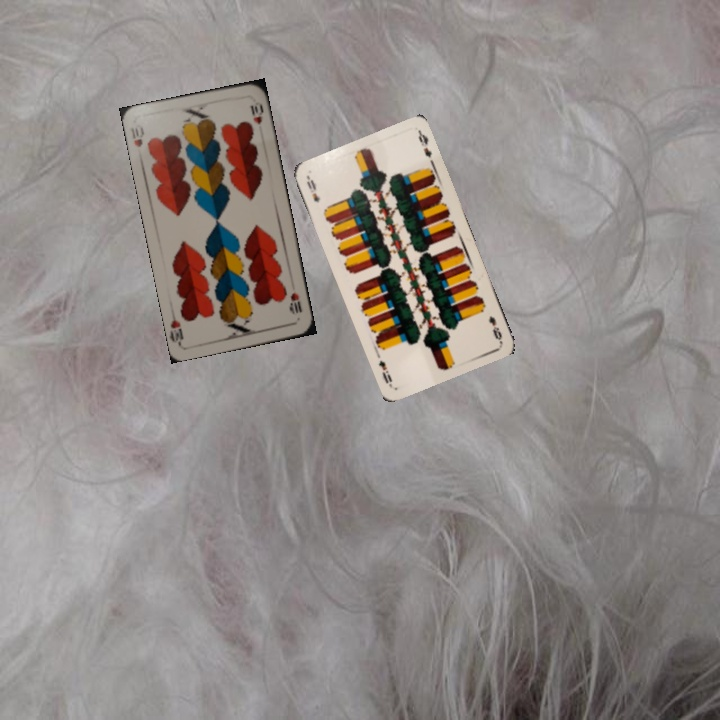E9: (303, 173, 323, 205), (485, 312, 505, 343)
H10: (127, 120, 147, 150), (286, 289, 304, 317)
